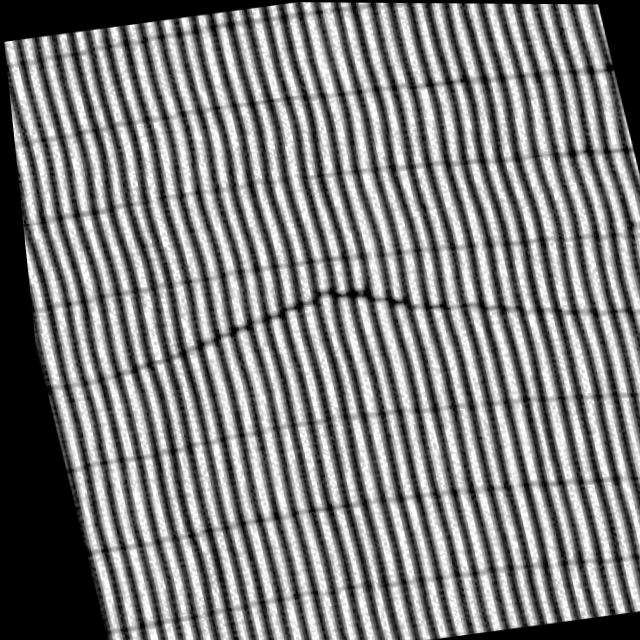Stitch: (107, 231, 539, 408)
